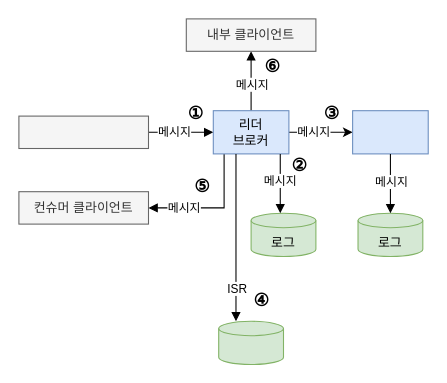
The diagram is 447 pixels wide and 383 high, and some of its shapes have lost their labels. The shapes that lost their labels are listed below. From the top down, each one's centre as x and y in pixels, then its label:
At [83,131]: "프로듀서 클라이언트".
At [390,132]: "팔로워 브로커".
At [251,342]: "주키퍼".
